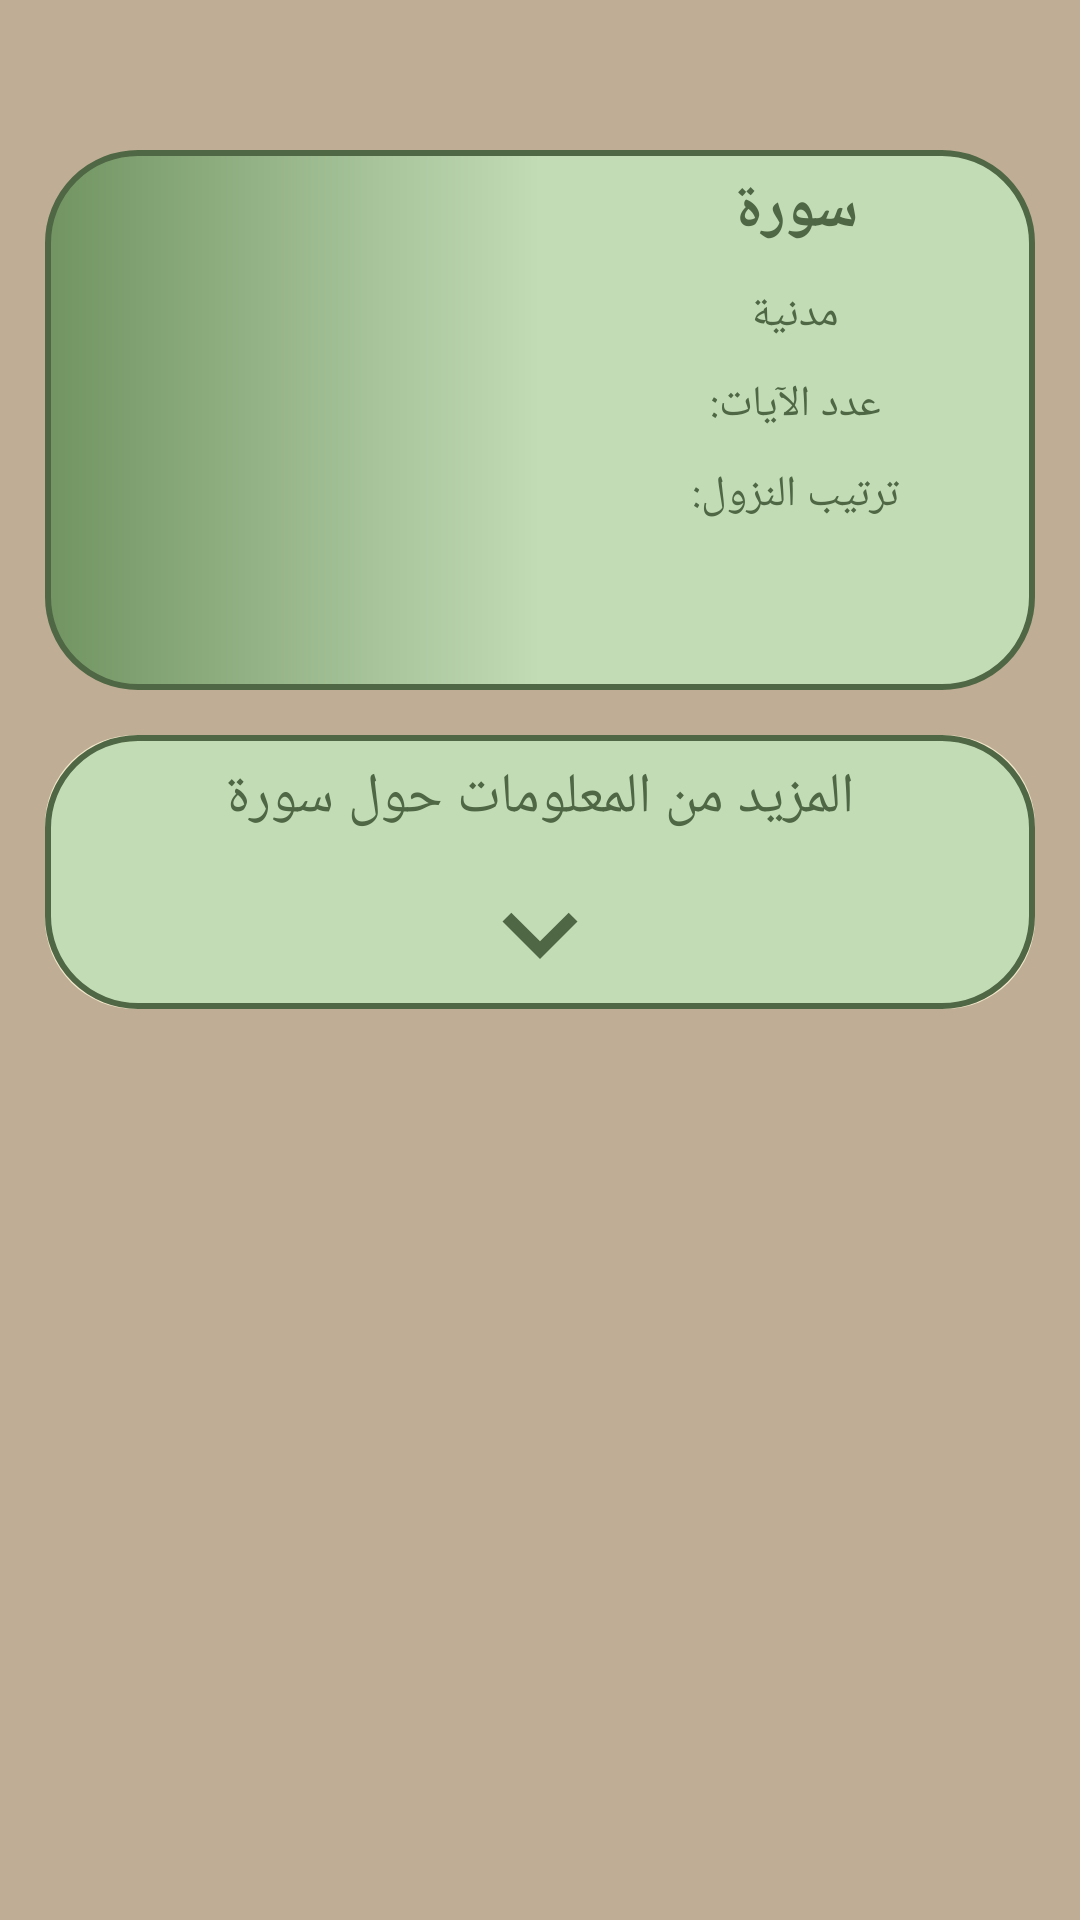

Locate icon controls on the screen. Image size 1080 × 1920, boxes as (x1=x1, y1=y1, x2=x2, y2=y2).
more: (x1=502, y1=913, x2=578, y2=959)
